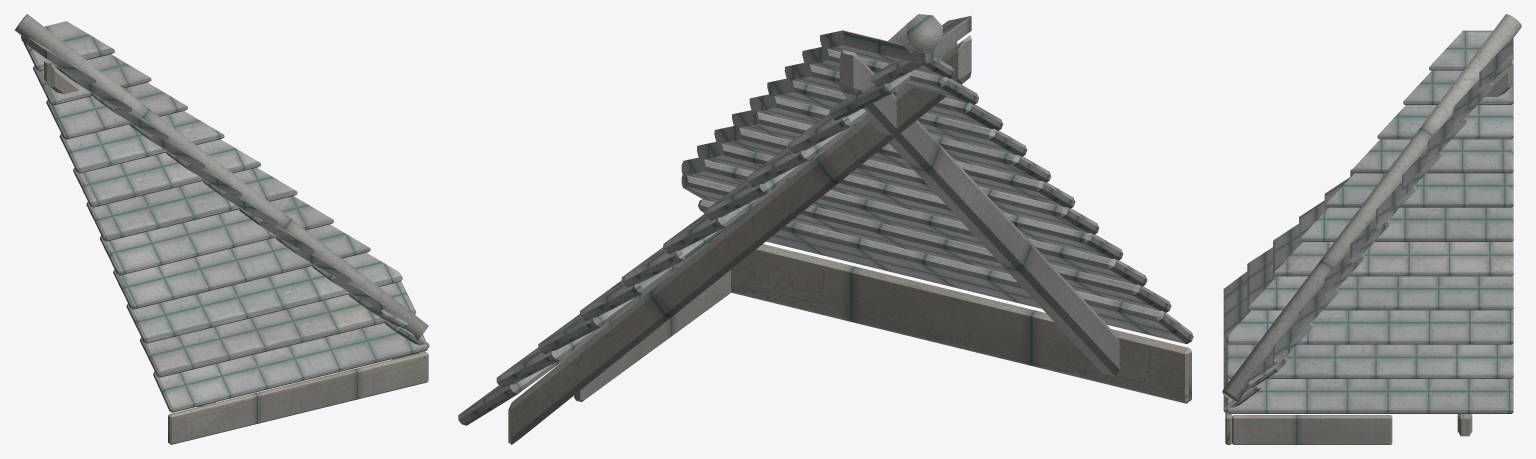
The model's file is cati_kosesi.glb.
3 renders of one model, left to right at view 1: azimuth 30°, elevation 25°; view 2: azimuth 150°, elevation 25°; view 3: azimuth 270°, elevation 25°, orthographic. The views are drawn at different scales.
Parts seen in each view (by area): view 1: cati_kosesi; view 2: cati_kosesi; view 3: cati_kosesi.
Boxes of the visible parts, box(x1,y1,x2,y2) form: cati_kosesi: box(14, 14, 429, 444); cati_kosesi: box(458, 14, 1193, 444); cati_kosesi: box(1222, 14, 1521, 444).
Bounding box in the file's own units: 3.71 × 4.24 × 3.7.
1 material, 1 textured.
